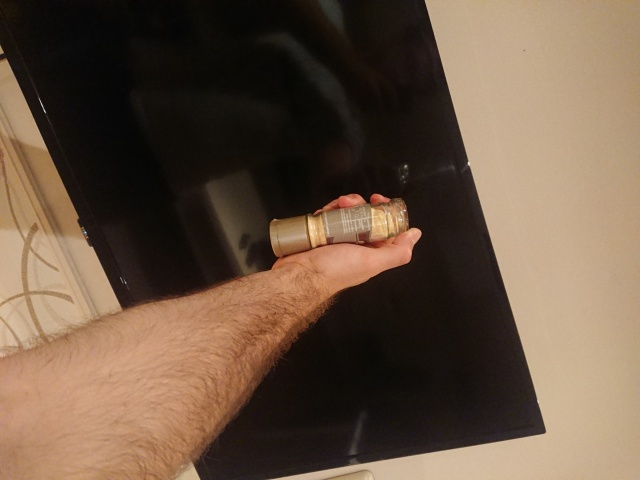Kotanyi Garlic Granules 70g: (267, 195, 411, 260)
